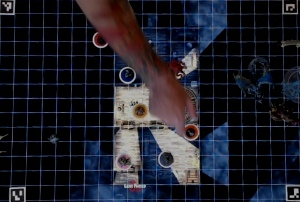blue: (118, 64, 138, 85)
orange: (182, 122, 202, 141)
pink: (115, 150, 134, 171)
red: (92, 28, 109, 48)
violet: (157, 148, 174, 168)
yellow: (132, 101, 147, 119)
